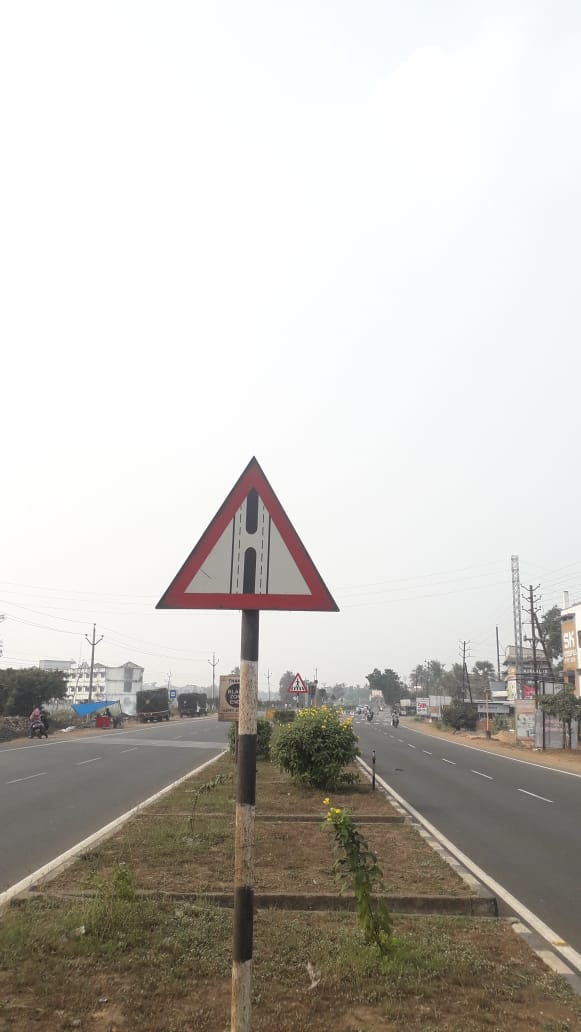highway go straight: (150, 427, 343, 641)
